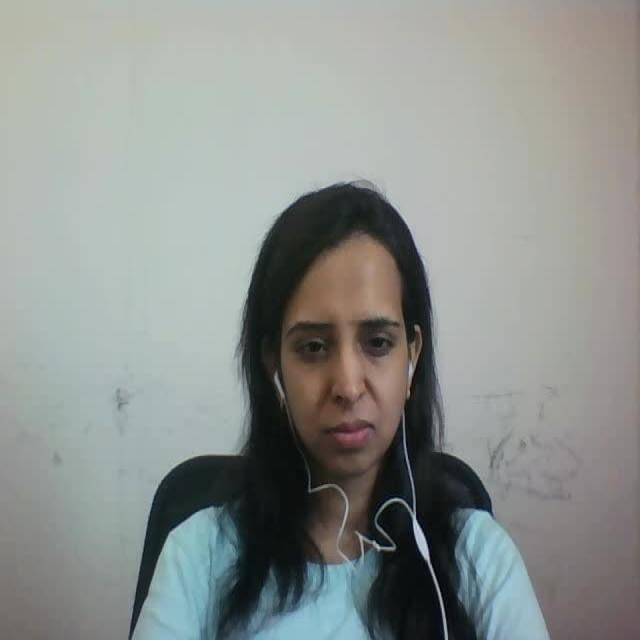Engaged: (232, 162, 468, 497)
